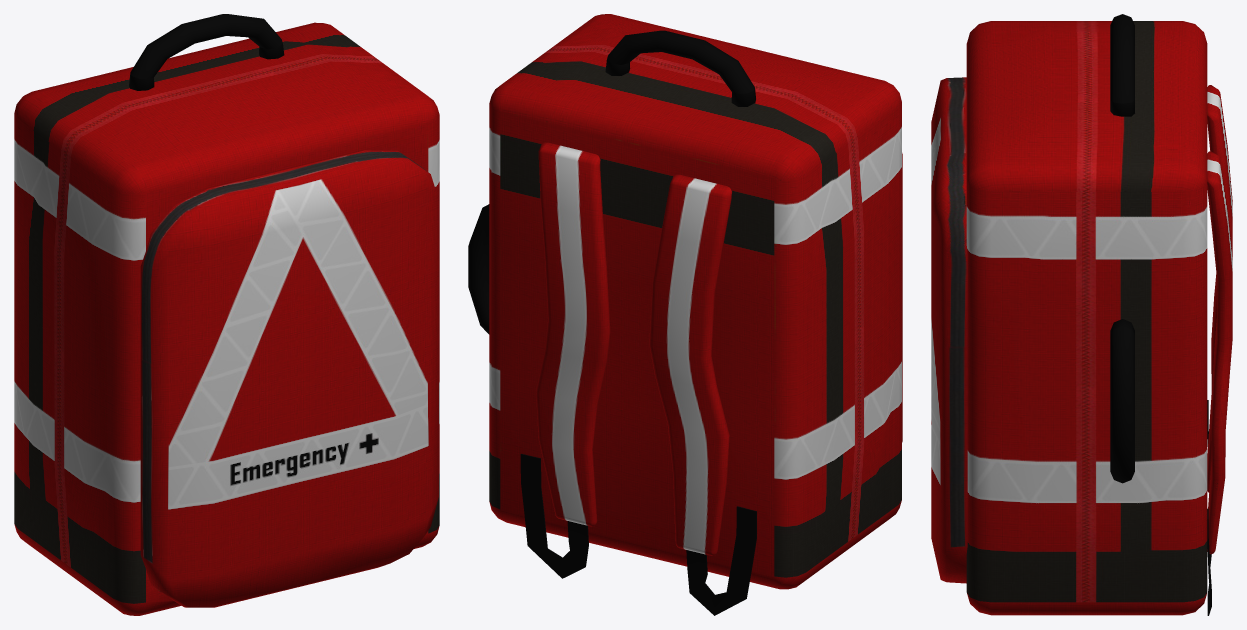
File: emergency_backpack.FBX
3 views of the same model, side by side, from view 1: azimuth 30°, elevation 25°; view 2: azimuth 150°, elevation 25°; view 3: azimuth 270°, elevation 25° (orthographic). The views are drawn at different scales.
Visible parts, largest first — view 1: main_body, top_handle; view 2: main_body, right_belt, left_belt, top_handle, right_small_belt, left_small_belt, left_handle; view 3: main_body, right_belt, left_handle, top_handle, left_belt.
Boxes of the visible parts, x1,y1,x2,y2 form: main_body: [14, 22, 439, 615]; top_handle: [129, 14, 284, 90]; main_body: [489, 14, 902, 589]; right_belt: [536, 142, 610, 526]; left_belt: [649, 174, 731, 555]; top_handle: [605, 30, 755, 106]; right_small_belt: [520, 454, 588, 578]; left_small_belt: [686, 506, 756, 615]; left_handle: [468, 204, 489, 334]; main_body: [931, 21, 1207, 615]; right_belt: [1207, 151, 1232, 554]; left_handle: [1110, 319, 1134, 483]; top_handle: [1110, 14, 1134, 116]; left_belt: [1207, 85, 1232, 492].
Size of the model in its own units: 51.54 by 70.38 by 34.98.
2 materials, 1 textured.
